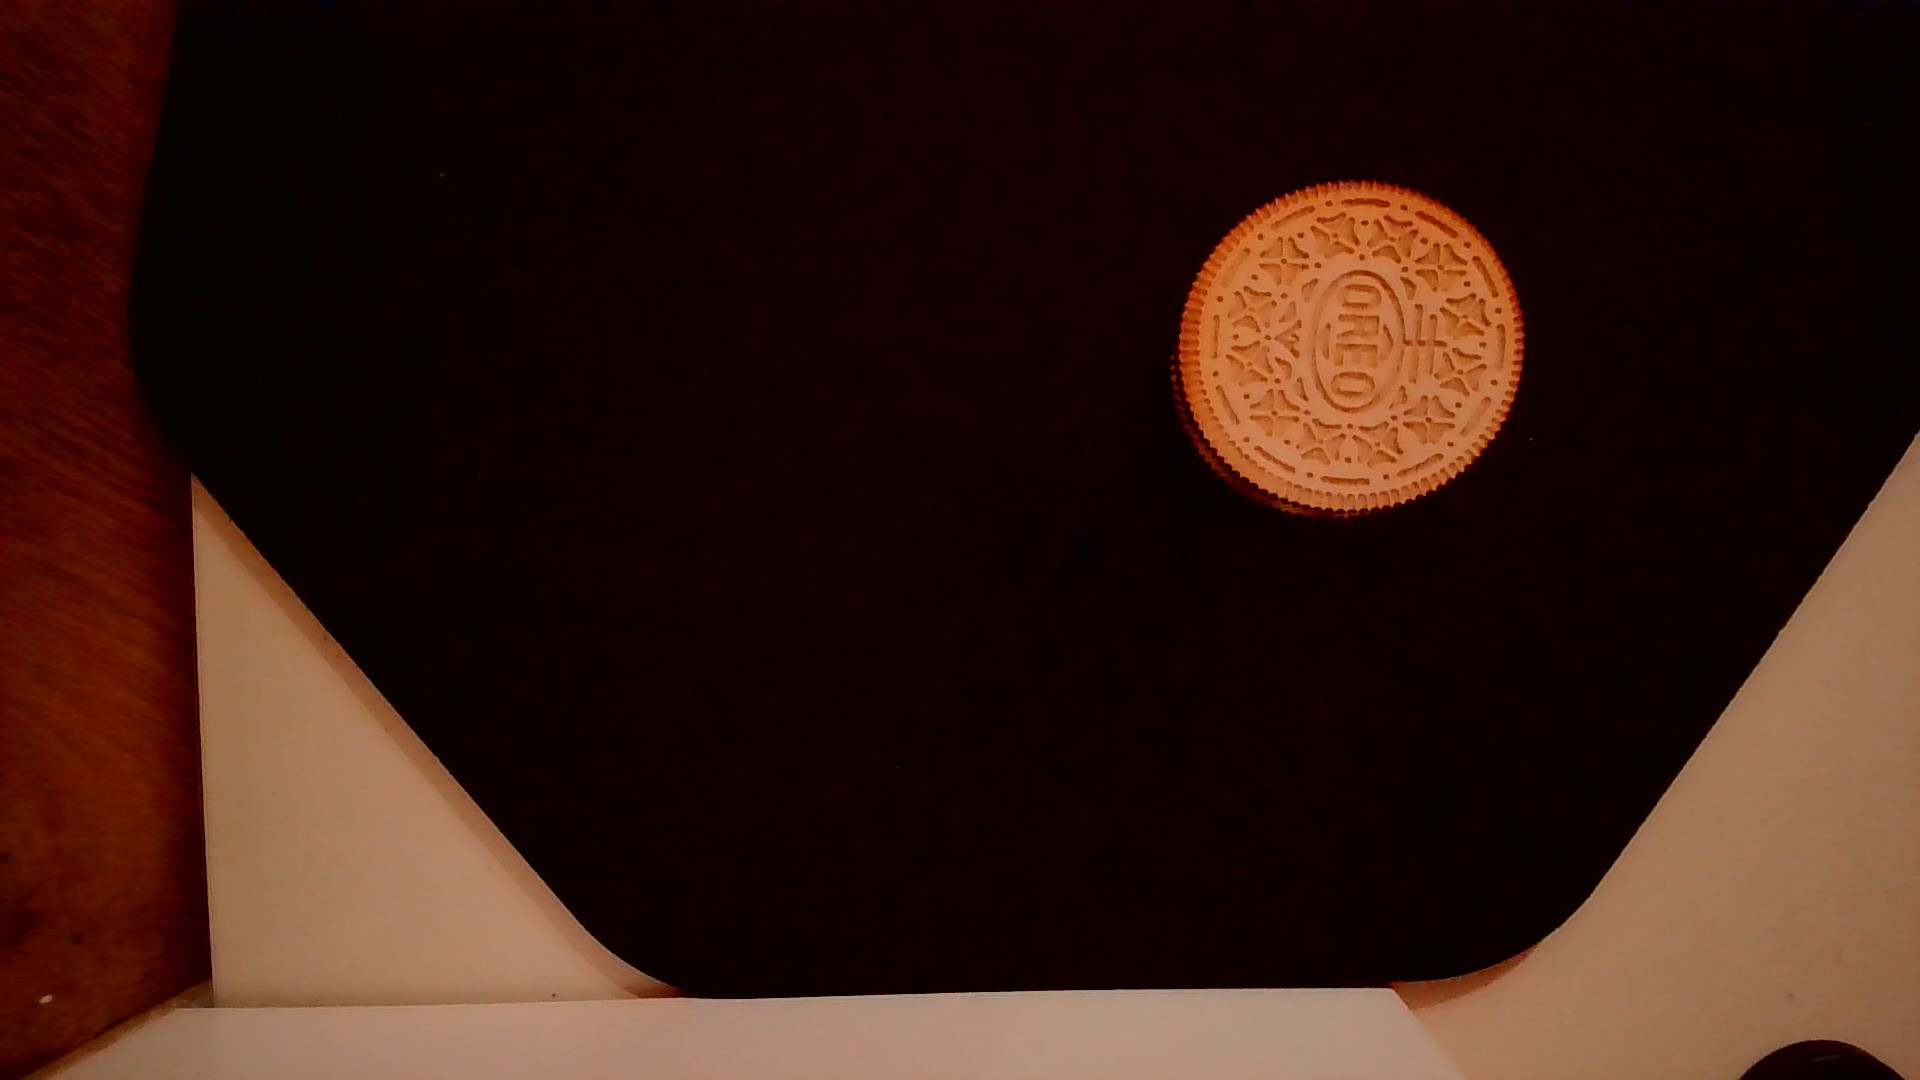Oréo: (1159, 170, 1531, 527)
